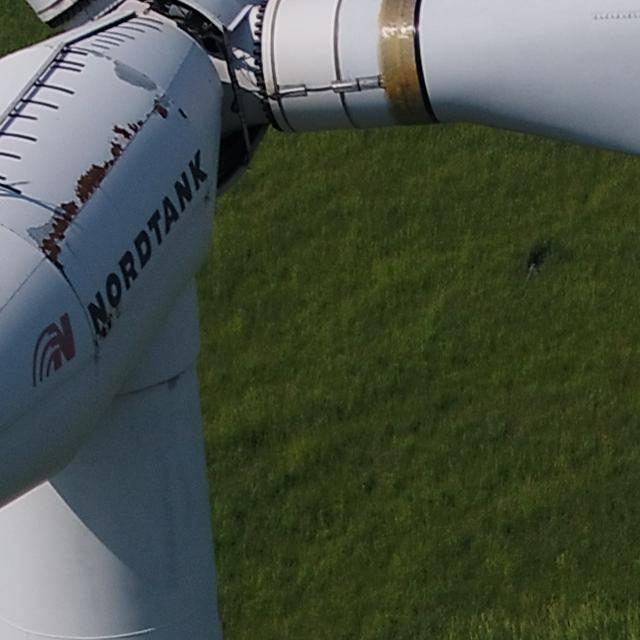damage: (25, 197, 81, 256), (44, 254, 84, 303), (72, 162, 114, 204), (112, 56, 158, 90), (110, 117, 148, 140), (105, 141, 130, 161), (149, 97, 171, 117), (176, 100, 190, 123)
